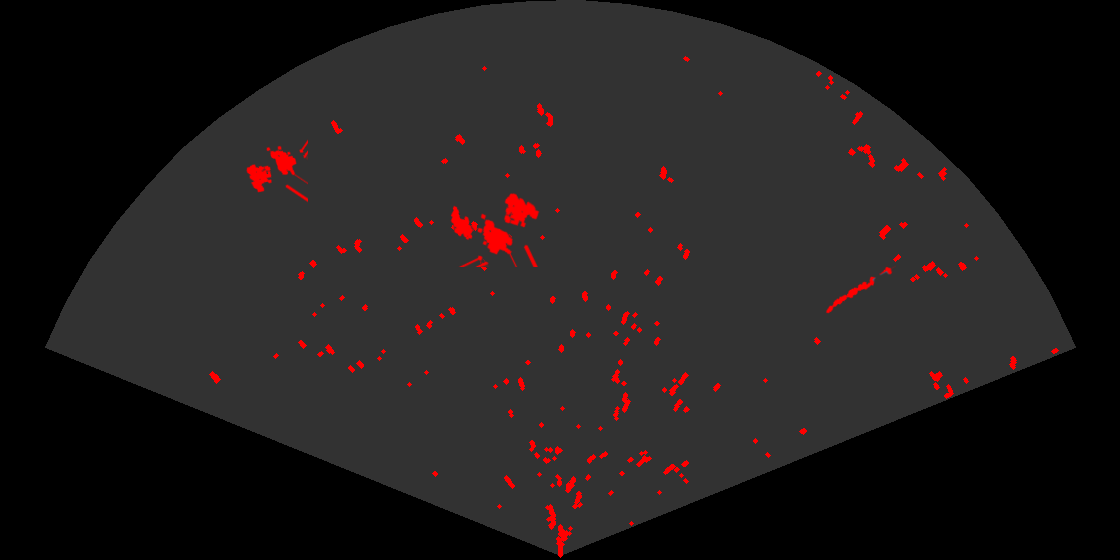AUV: (449, 204, 475, 242)
cage: (457, 191, 541, 267), (245, 138, 308, 204)
chain: (824, 264, 896, 315)
